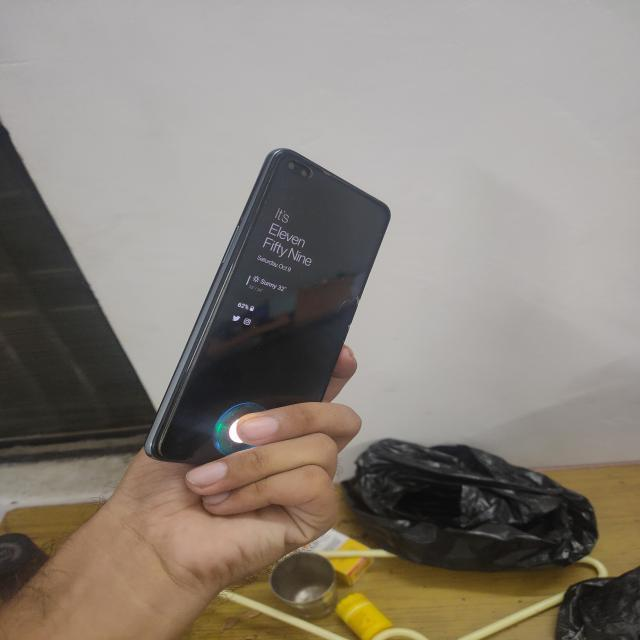Phone: (139, 144, 395, 465)
